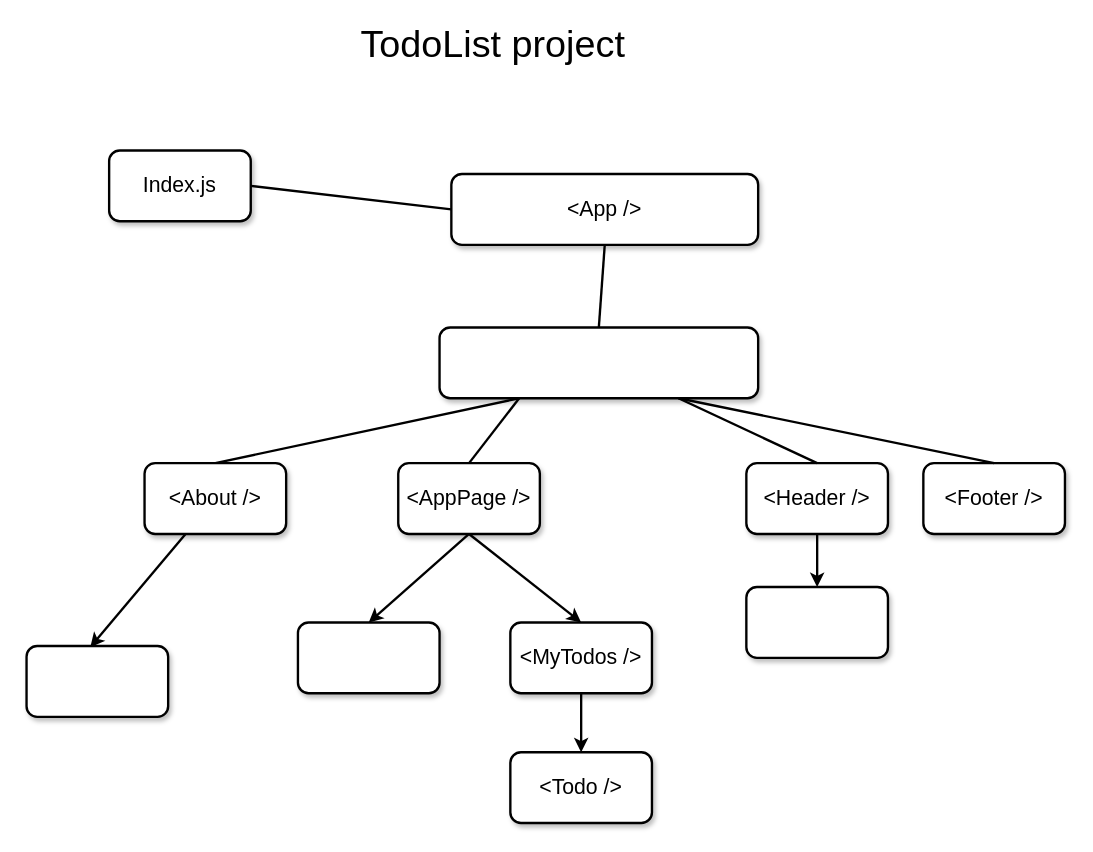
The diagram is 1093 pixels wide and 852 high, and some of its shapes have lost their labels. Here are the shapes that lost their labels. From the top down, the centre of each, then its label:
At point (599, 364): "BrowserRouter".
At point (818, 624): "<Navbar />".
At point (369, 659): "<AddTodo />".
At point (98, 683): "<ProfileInfo />".
